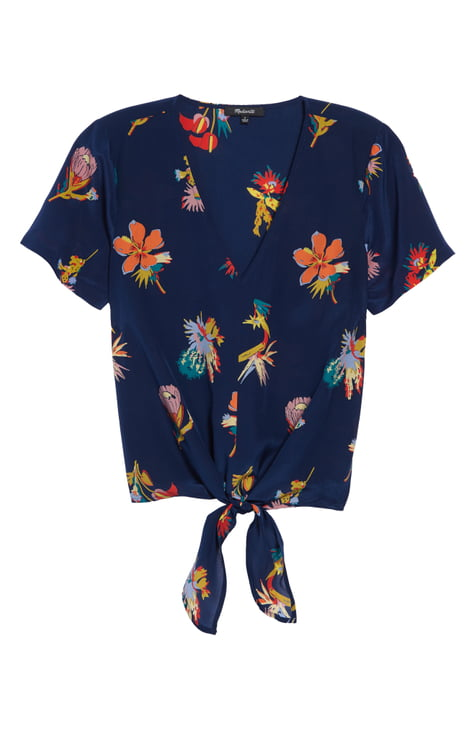C_short blouse: (20, 93, 453, 634)
